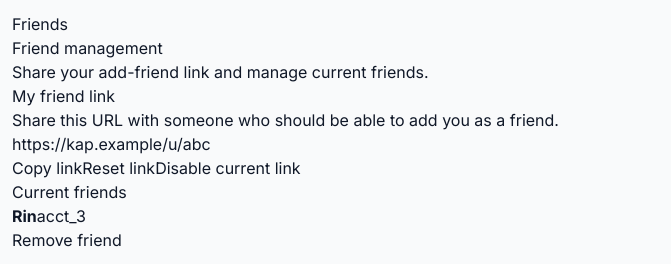
Test case: CustomerFriendsPage › keeps the disabled friend link local without immediately fetching a replacement link
Click the button "Disable current link" at (228, 168), box [155,156,301,180]
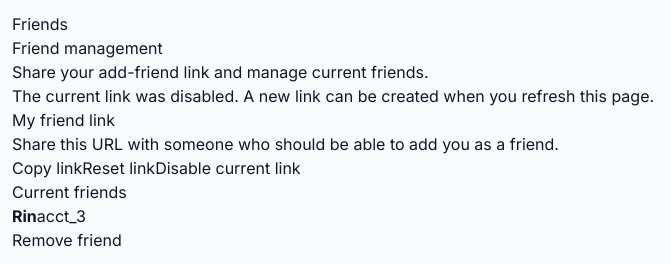
Expected: the text "The current link was disabled." is shown, [12,86,654,106]
Expected: the text "https://kap.example/u/abc" is gone
